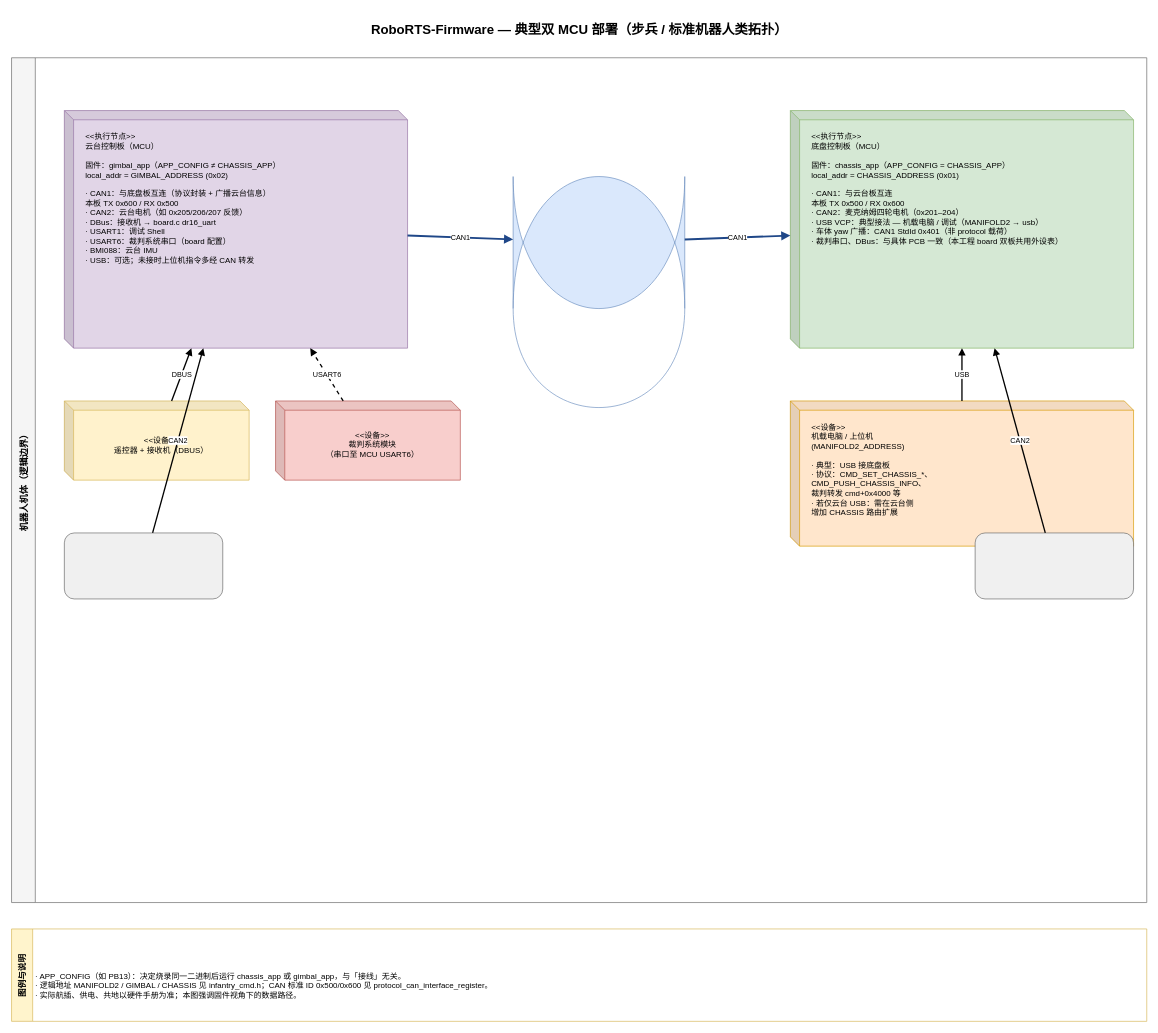
Some shapes in this 1158 by 1033 pixel diagram are drawn without their labels. The centre of each missing label's shape, as x and y in pixels:
CAN1 总线 （双板对绞 / 航插） 应用层协议 + CMD_PUSH_GIMBAL_INFO 等 0x401 车体 yaw: the point at 598,242
云台电机组 CAN2 总线 （C620 等）: the point at 143,565
底盘电机组 CAN2 总线 （四轮）: the point at 1054,565
